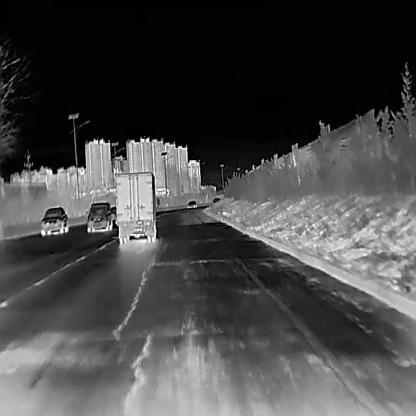car: (86, 202, 113, 231), (40, 206, 67, 234), (186, 199, 196, 207), (212, 197, 221, 203)
truck: (113, 170, 158, 244)
